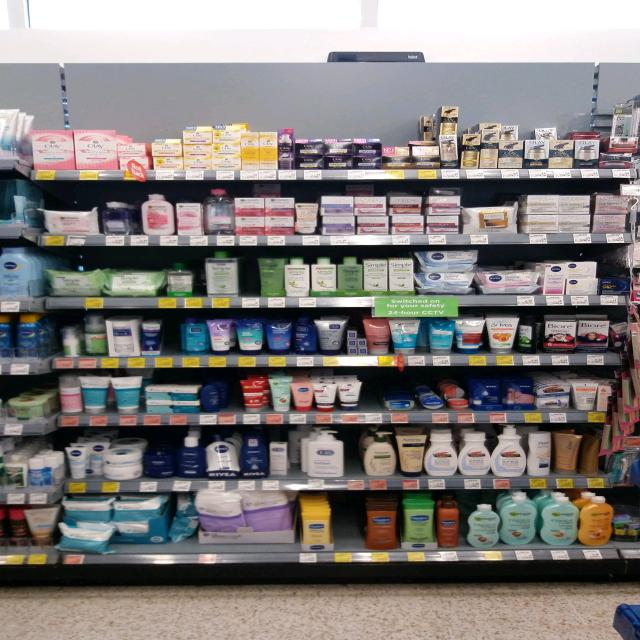unorganised: (55, 521, 117, 555), (204, 429, 242, 482), (166, 497, 201, 545), (581, 436, 603, 479), (86, 439, 107, 477), (520, 312, 536, 354), (447, 392, 470, 409)
